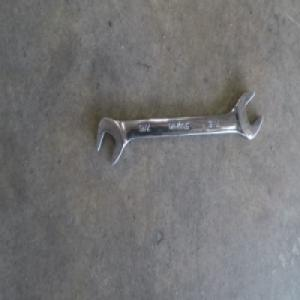Wrench: (93, 91, 257, 165)
